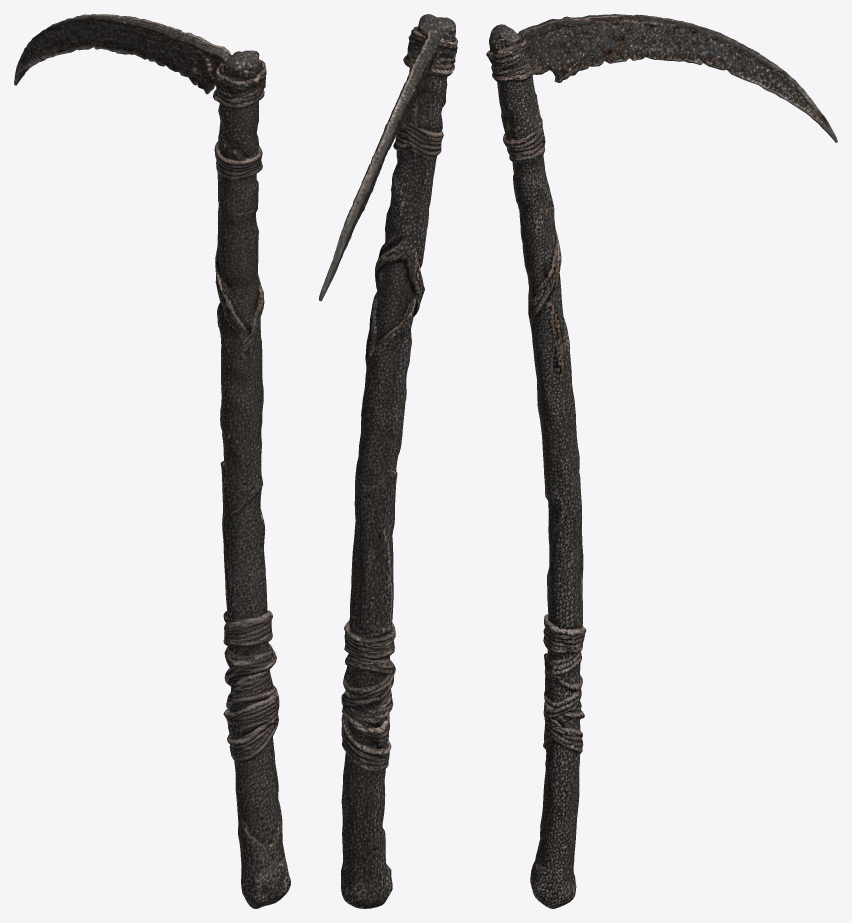
File: exact-isolated-scythe-from-this-image-si-cmu1fy15.glb
The picture shows the model from 3 angles, left to right: view 1: azimuth 30°, elevation 25°; view 2: azimuth 150°, elevation 25°; view 3: azimuth 270°, elevation 25°; orthographic projection. The views are drawn at different scales.
Parts seen in each view (by area): view 1: tripo_node_af79631f-82e0-464d-a860-eddbc04395c1; view 2: tripo_node_af79631f-82e0-464d-a860-eddbc04395c1; view 3: tripo_node_af79631f-82e0-464d-a860-eddbc04395c1.
Boxes of the visible parts, x1=… form: tripo_node_af79631f-82e0-464d-a860-eddbc04395c1: x1=14, y1=14, x2=290, y2=908; tripo_node_af79631f-82e0-464d-a860-eddbc04395c1: x1=319, y1=14, x2=457, y2=908; tripo_node_af79631f-82e0-464d-a860-eddbc04395c1: x1=486, y1=14, x2=837, y2=908.
Bounding box in the file's own units: 0.1579 × 1 × 0.3734.
Materials: 1 (1 with a texture image).
